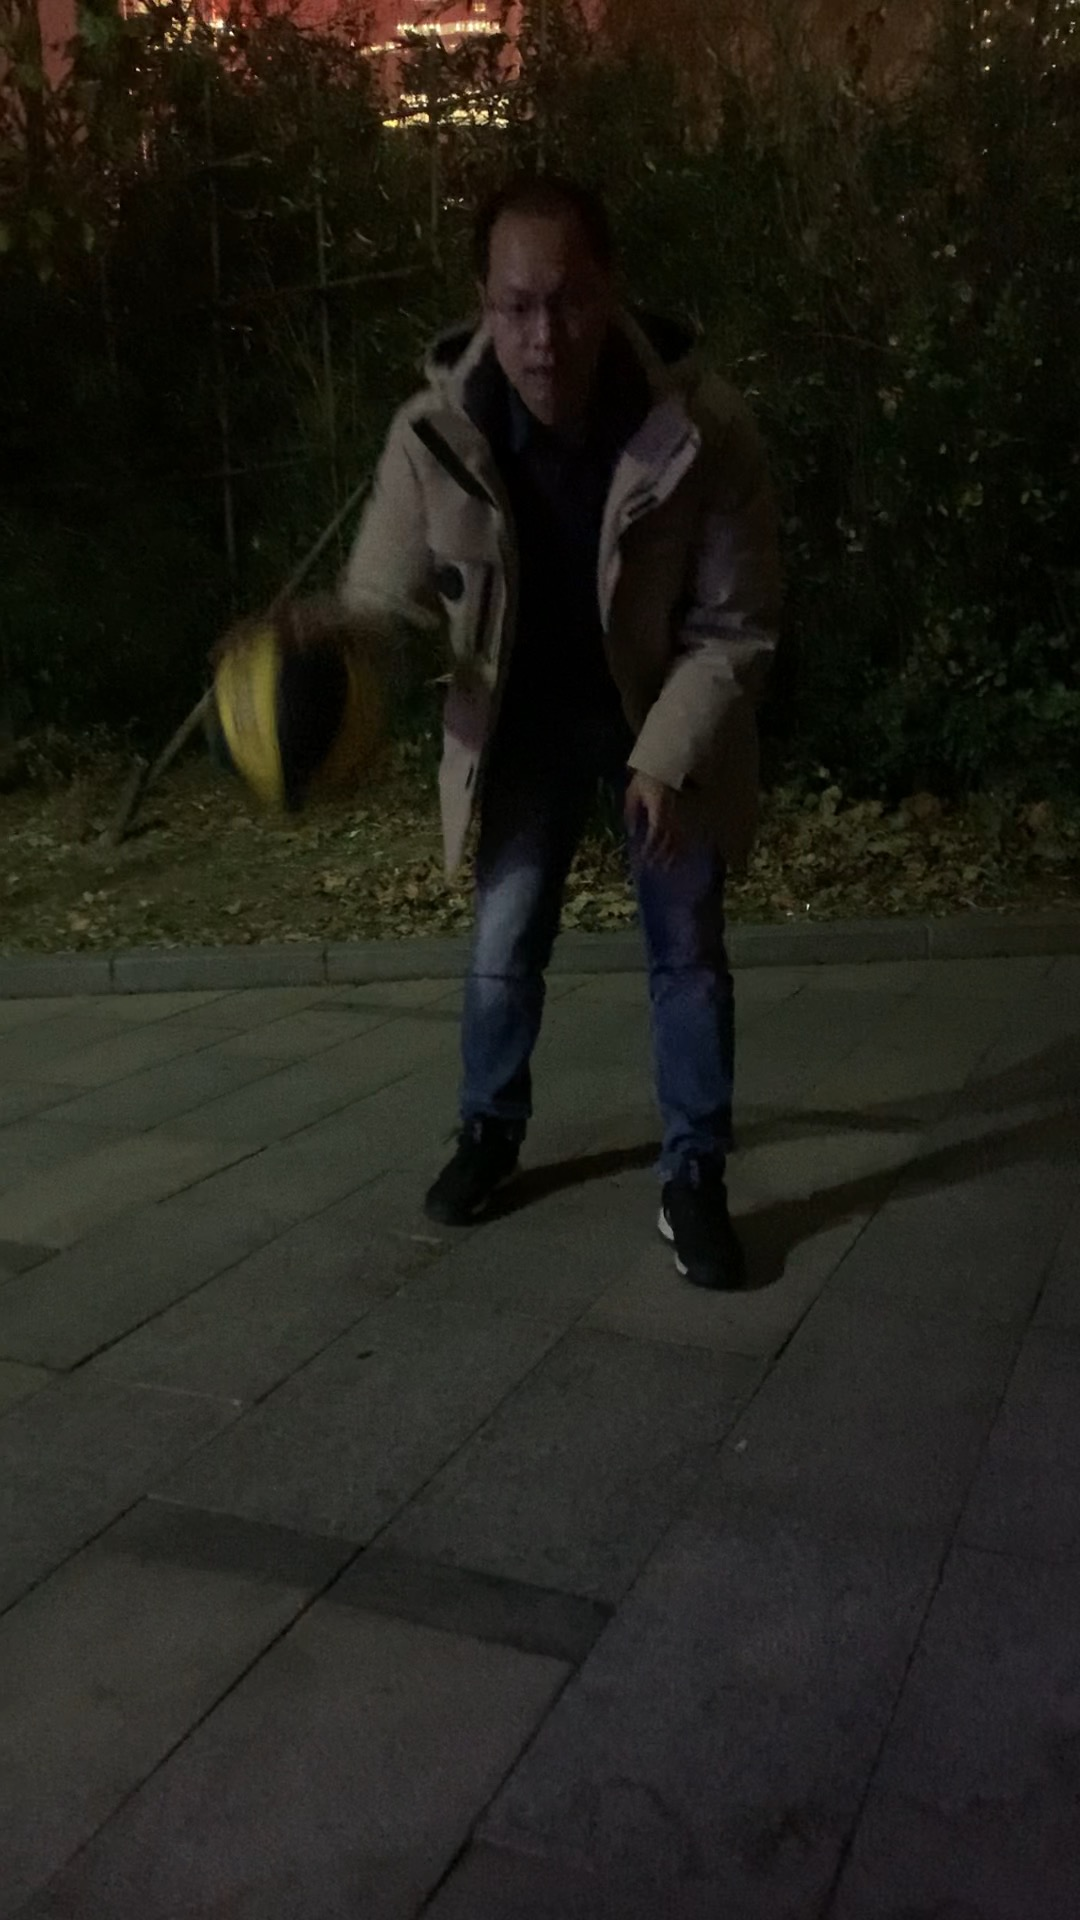ball: (208, 615, 411, 819)
